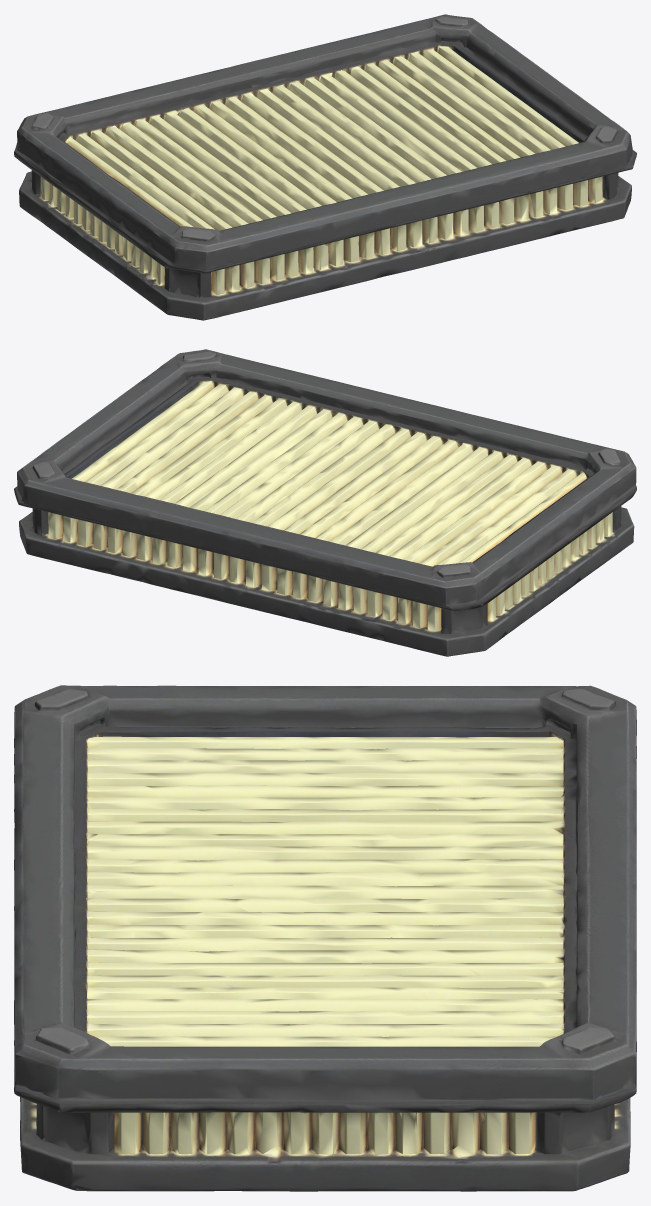
Rendered from air_filter_1k_real.glb.
The picture shows the model from 3 angles, top to bottom: view 1: azimuth 30°, elevation 25°; view 2: azimuth 150°, elevation 25°; view 3: azimuth 270°, elevation 25°; orthographic projection. The views are drawn at different scales.
Parts seen in each view (by area): view 1: tripo_node_5fb790b5-99c1-4c0a-9821-ebf142dba8f4; view 2: tripo_node_5fb790b5-99c1-4c0a-9821-ebf142dba8f4; view 3: tripo_node_5fb790b5-99c1-4c0a-9821-ebf142dba8f4.
Boxes of the visible parts, box(x1,y1,x2,y2) form: tripo_node_5fb790b5-99c1-4c0a-9821-ebf142dba8f4: box(14, 14, 636, 320); tripo_node_5fb790b5-99c1-4c0a-9821-ebf142dba8f4: box(14, 349, 636, 656); tripo_node_5fb790b5-99c1-4c0a-9821-ebf142dba8f4: box(14, 685, 636, 1191).
Size of the model in its own units: 1 by 0.1701 by 0.6795.
Materials: 1 (1 with a texture image).
